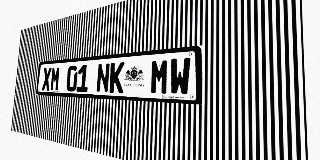0: (66, 65, 78, 92)
1: (76, 64, 89, 92)
K: (109, 62, 125, 93)
M: (150, 59, 169, 95), (50, 67, 60, 91)
N: (96, 63, 110, 93)
W: (169, 57, 191, 96)
X: (42, 67, 52, 91)
